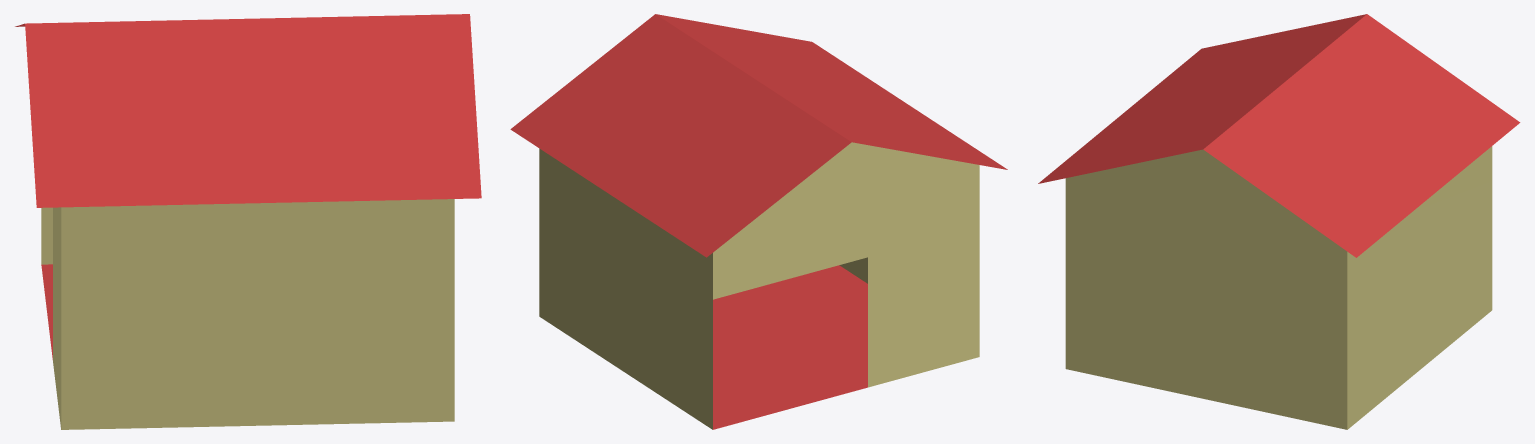
The picture shows the model from 3 angles, left to right: view 1: azimuth 30°, elevation 25°; view 2: azimuth 150°, elevation 25°; view 3: azimuth 270°, elevation 25°; orthographic projection. The views are drawn at different scales.
Bounding box in the file's own units: 17.41 × 17.38 × 10.29.
